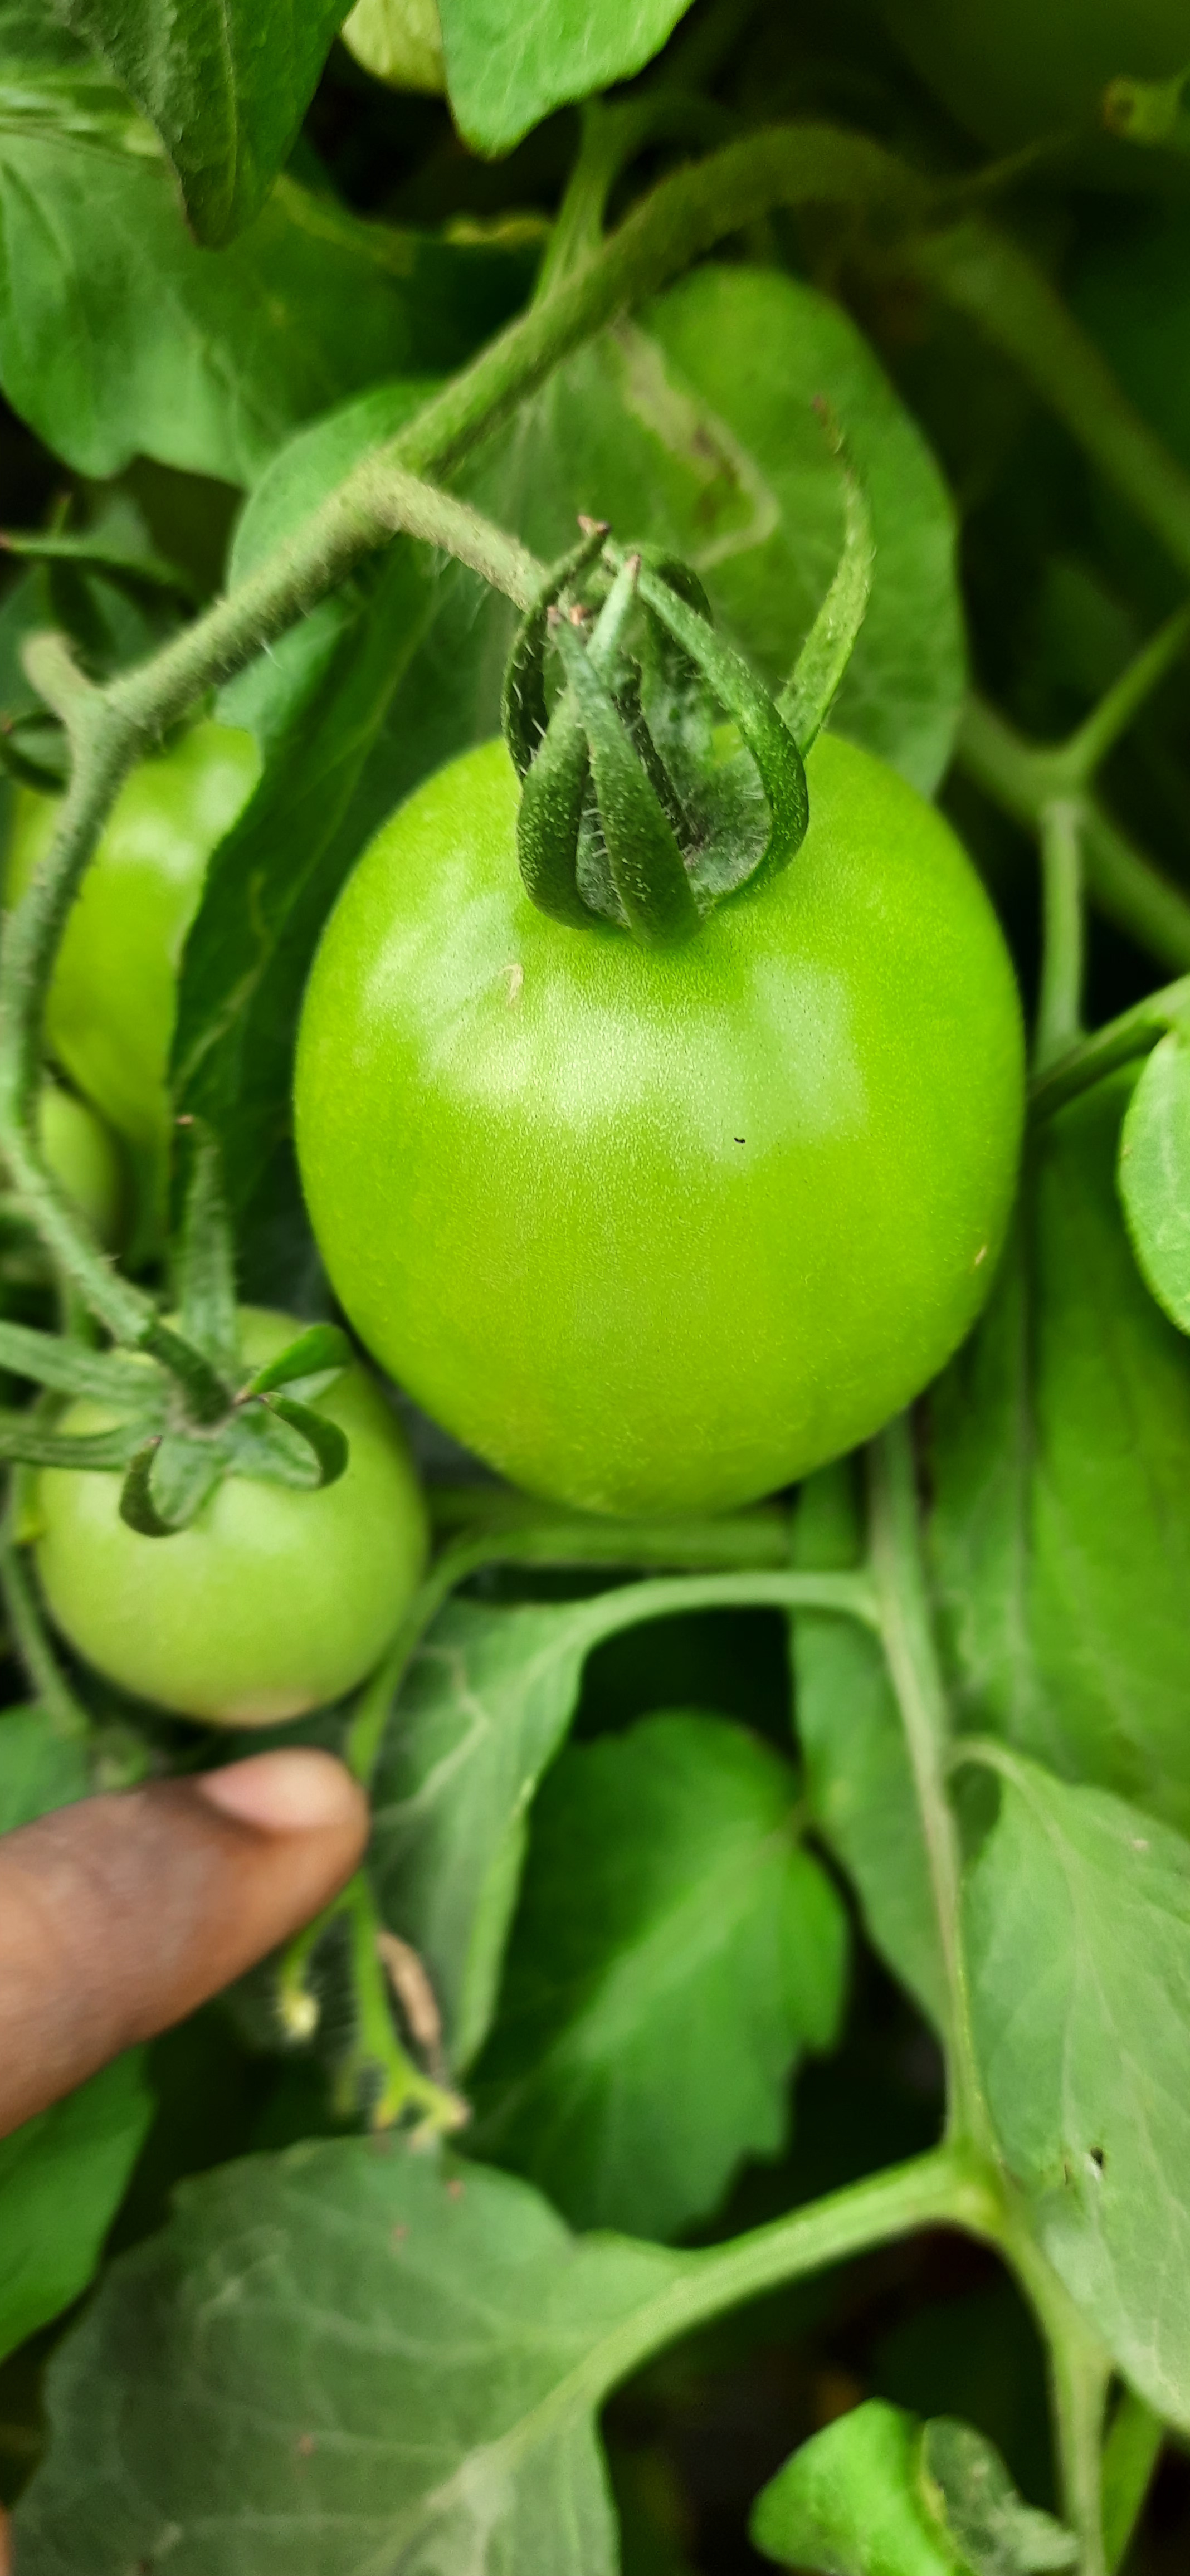raw_tomato: (301, 654, 1190, 1564)
